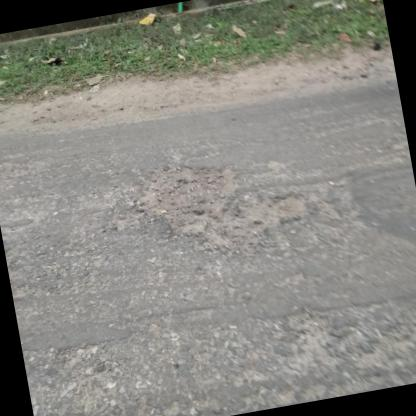pothole: (126, 134, 312, 264)
